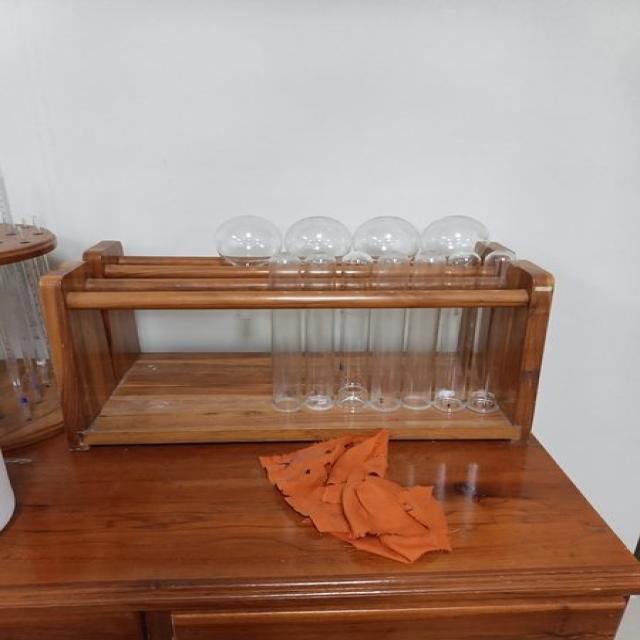Soporte Giratorio para Pipetas de Vidrio: (43, 221, 552, 450)
